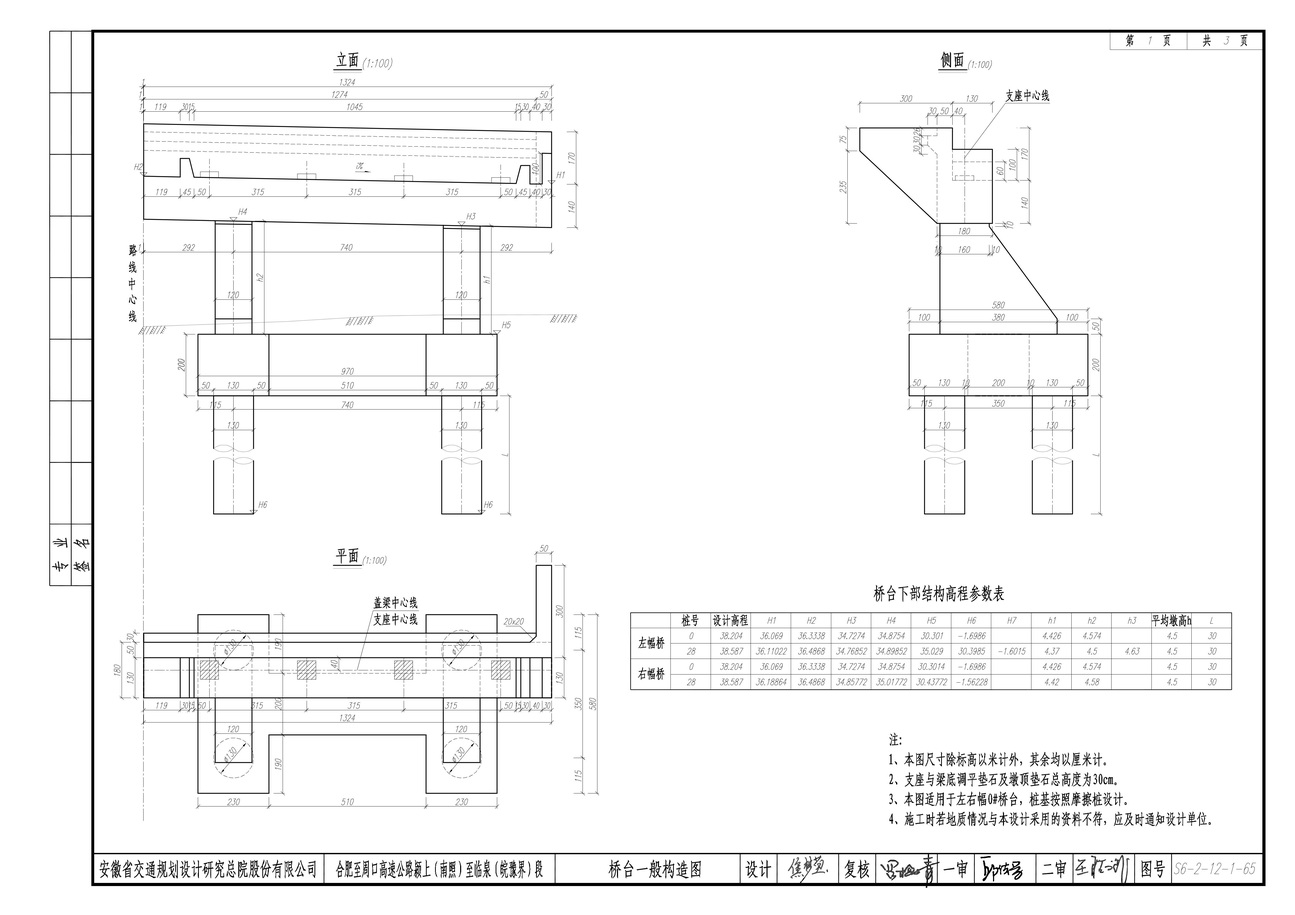D1: (438, 287, 487, 306), (210, 290, 258, 306)
D2: (206, 416, 259, 437), (434, 416, 486, 437)
L1: (324, 232, 369, 264)
